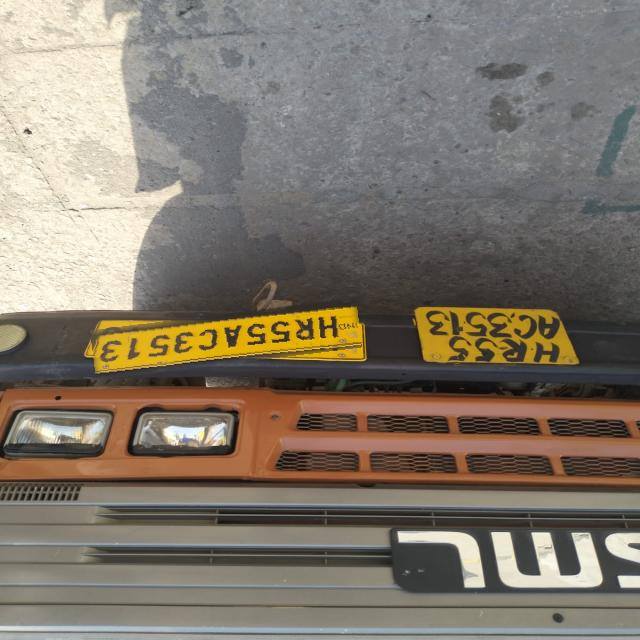License-plate: (91, 306, 361, 372)
